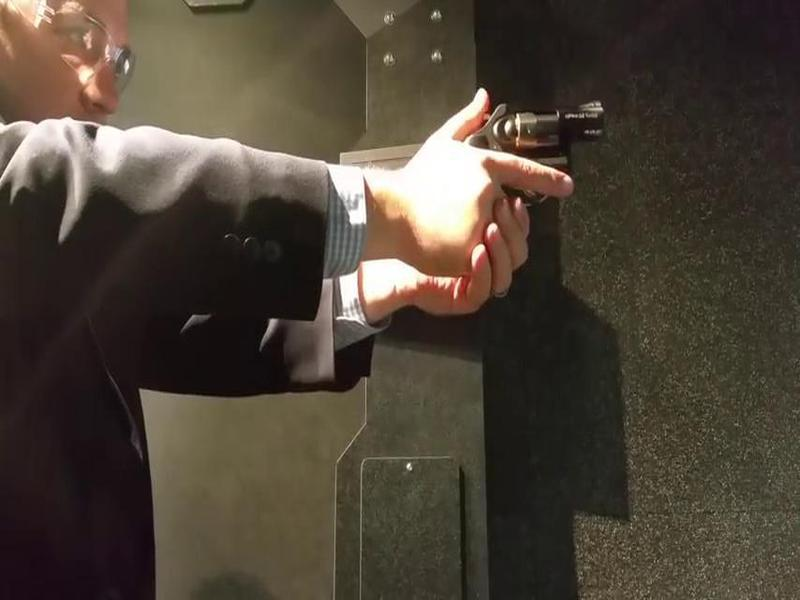Revolver: (430, 87, 605, 234)
